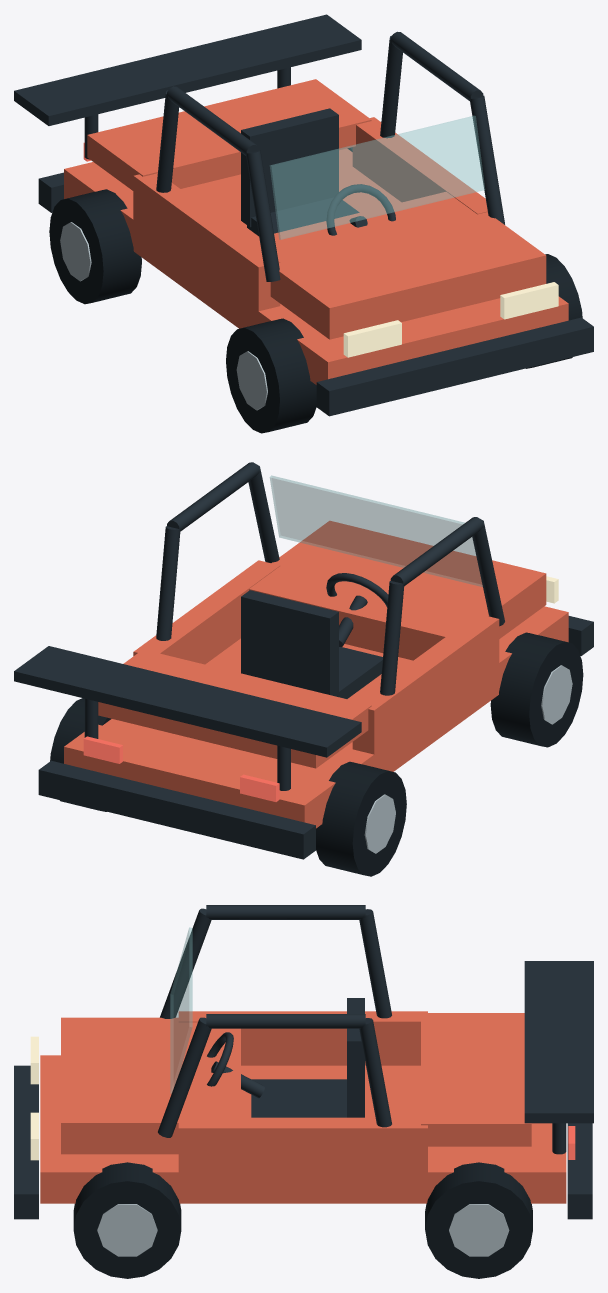
File: racer.glb
3 views of the same model, one above another, from view 1: azimuth 30°, elevation 25°; view 2: azimuth 150°, elevation 25°; view 3: azimuth 270°, elevation 25° (orthographic).
Visible parts, largest first — view 1: racer, wheel.0.spin, wheel.1.spin, wheel.3.spin; view 2: racer, wheel.1.spin, wheel.0.spin, wheel.2.spin; view 3: racer, wheel.3.spin, wheel.2.spin.
Boxes of the visible parts, x1,y1,x2,y2 form: racer: [14, 14, 593, 416]; wheel.0.spin: [49, 189, 141, 304]; wheel.1.spin: [226, 318, 316, 433]; wheel.3.spin: [526, 254, 582, 368]; racer: [14, 462, 593, 859]; wheel.1.spin: [490, 632, 583, 747]; wheel.0.spin: [316, 761, 406, 876]; wheel.2.spin: [50, 698, 111, 811]; racer: [14, 905, 593, 1219]; wheel.3.spin: [73, 1162, 181, 1278]; wheel.2.spin: [425, 1162, 532, 1278].
Size of the model in its own units: 2.6 by 1.95 by 4.19.
